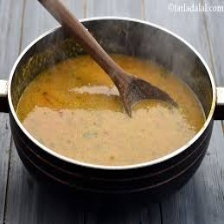dal: (14, 53, 209, 167)
